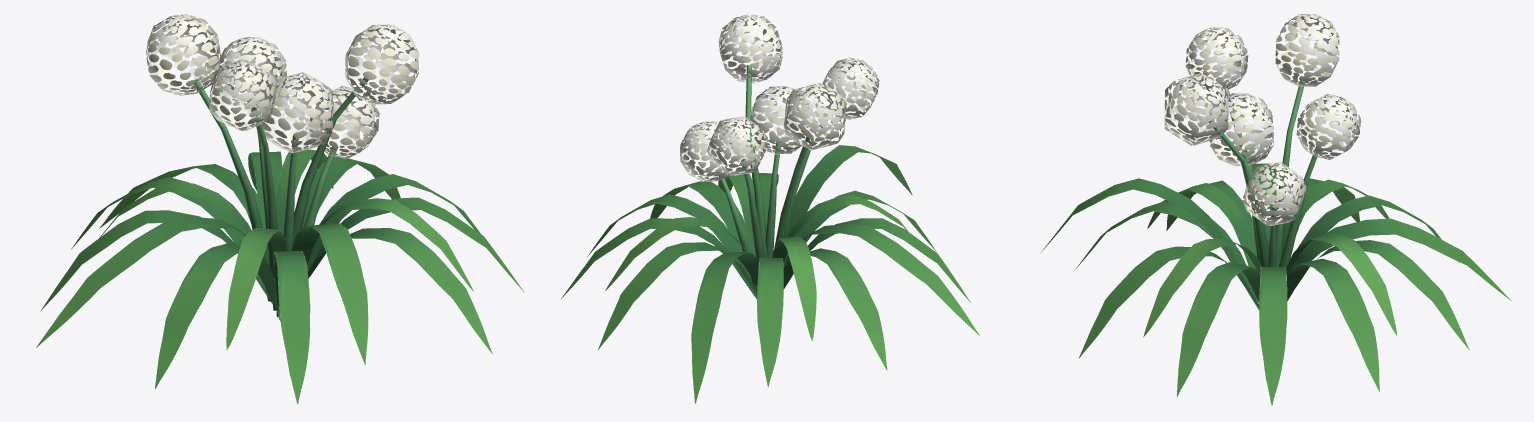
Rendered from allium_flower.fbx.
3 renders of one model, left to right at view 1: azimuth 30°, elevation 25°; view 2: azimuth 150°, elevation 25°; view 3: azimuth 270°, elevation 25°, orthographic. The views are drawn at different scales.
Parts seen in each view (by area): view 1: allium_flower; view 2: allium_flower; view 3: allium_flower.
Boxes of the visible parts, x1,y1,x2,y2 form: allium_flower: (36, 14, 524, 404); allium_flower: (561, 14, 979, 403); allium_flower: (1041, 14, 1511, 405).
Size of the model in its own units: 0.5446 by 0.3581 by 0.5514.
1 material, 1 textured.
